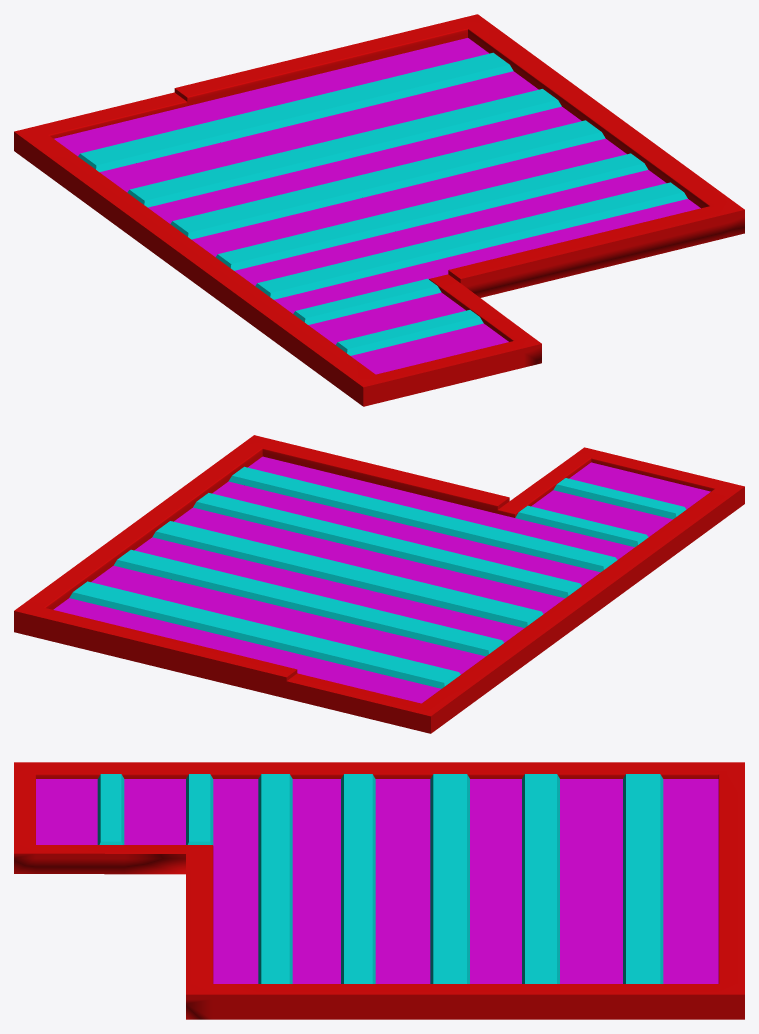
File: Roof_Type_3.fbx
3 renders of one model, top to bottom at view 1: azimuth 30°, elevation 25°; view 2: azimuth 150°, elevation 25°; view 3: azimuth 270°, elevation 25°, orthographic. The views are drawn at different scales.
Visible parts, largest first — view 1: pCube1; view 2: pCube1; view 3: pCube1.
Part boxes in pixels (x1=…): pCube1: x1=14, y1=14, x2=744, y2=406; pCube1: x1=14, y1=435, x2=744, y2=733; pCube1: x1=14, y1=762, x2=744, y2=1019.
Size of the model in its own units: 1869 by 91.31 by 2439.
